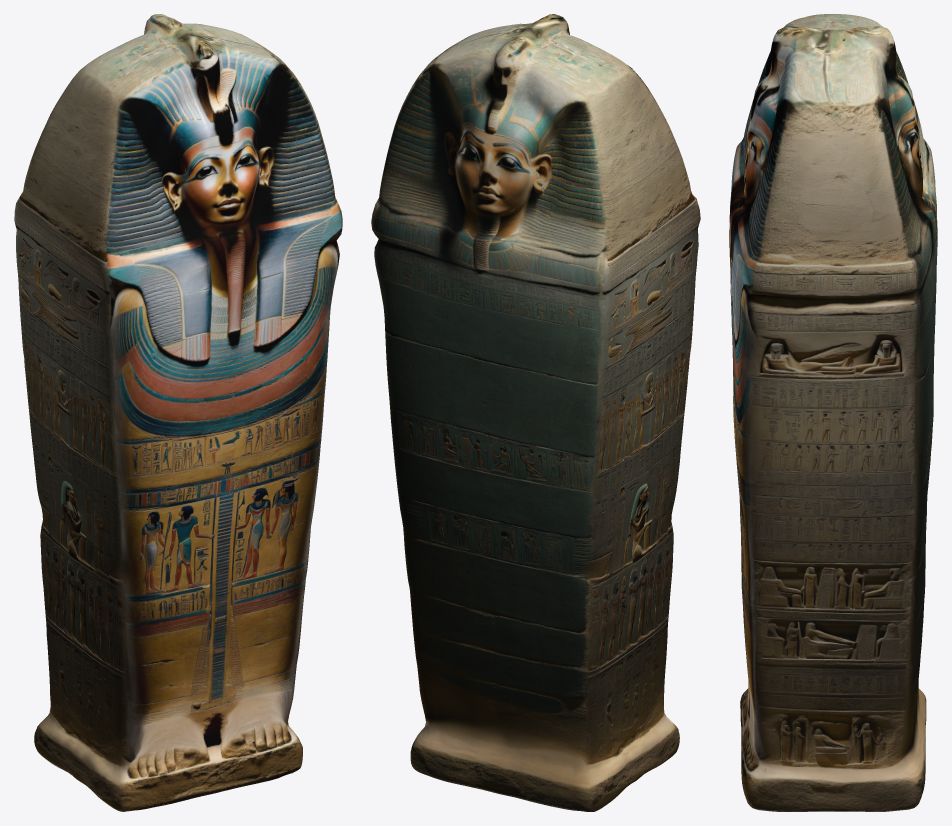
Rendered from Sarcophagus.glb.
3 renders of one model, left to right at view 1: azimuth 30°, elevation 25°; view 2: azimuth 150°, elevation 25°; view 3: azimuth 270°, elevation 25°, orthographic.
Bounding box in the file's own units: 0.7183 × 2 × 0.5076.
Materials: 1 (1 with a texture image).
